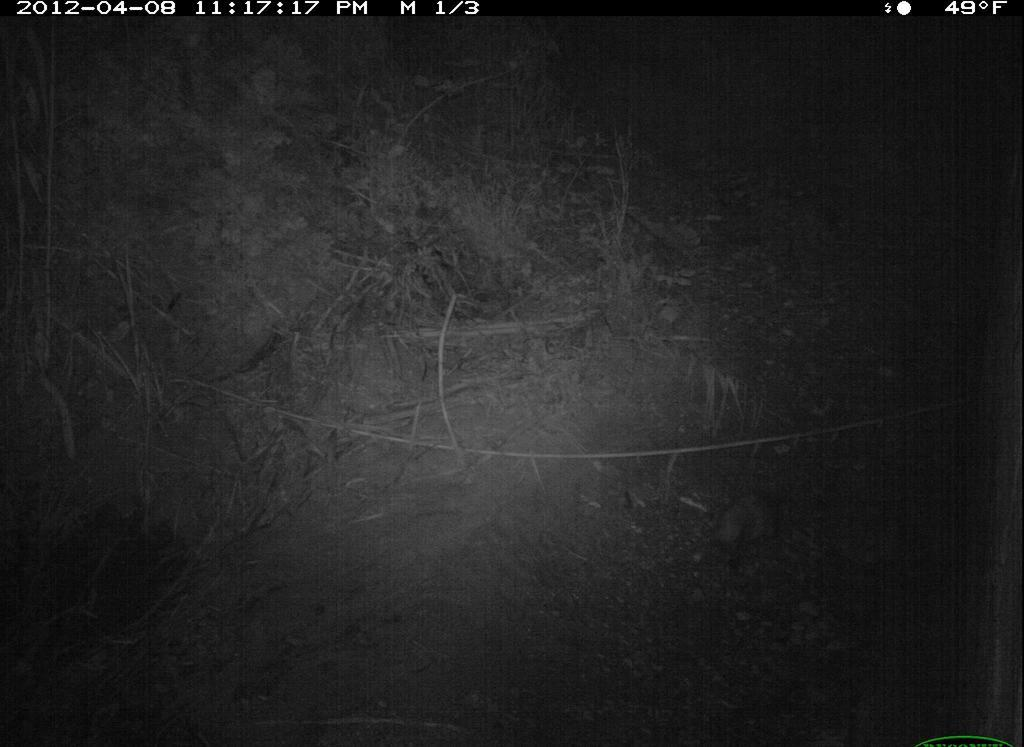opossum: (671, 479, 806, 582)
